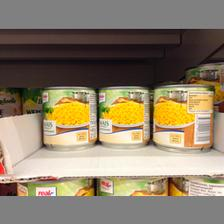Mais: (150, 82, 214, 154), (40, 86, 96, 150), (98, 85, 150, 149)
